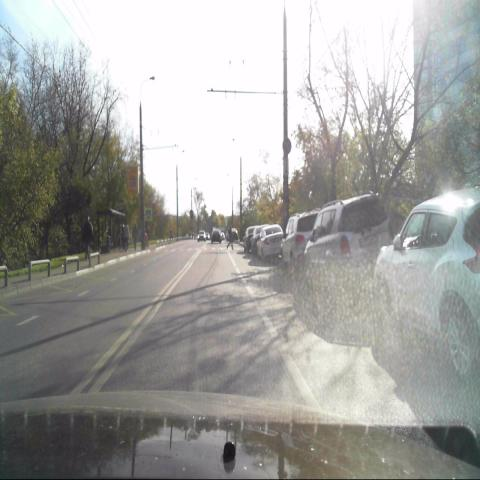3_27: (282, 138, 292, 154)
5_19_1: (144, 207, 152, 221)
